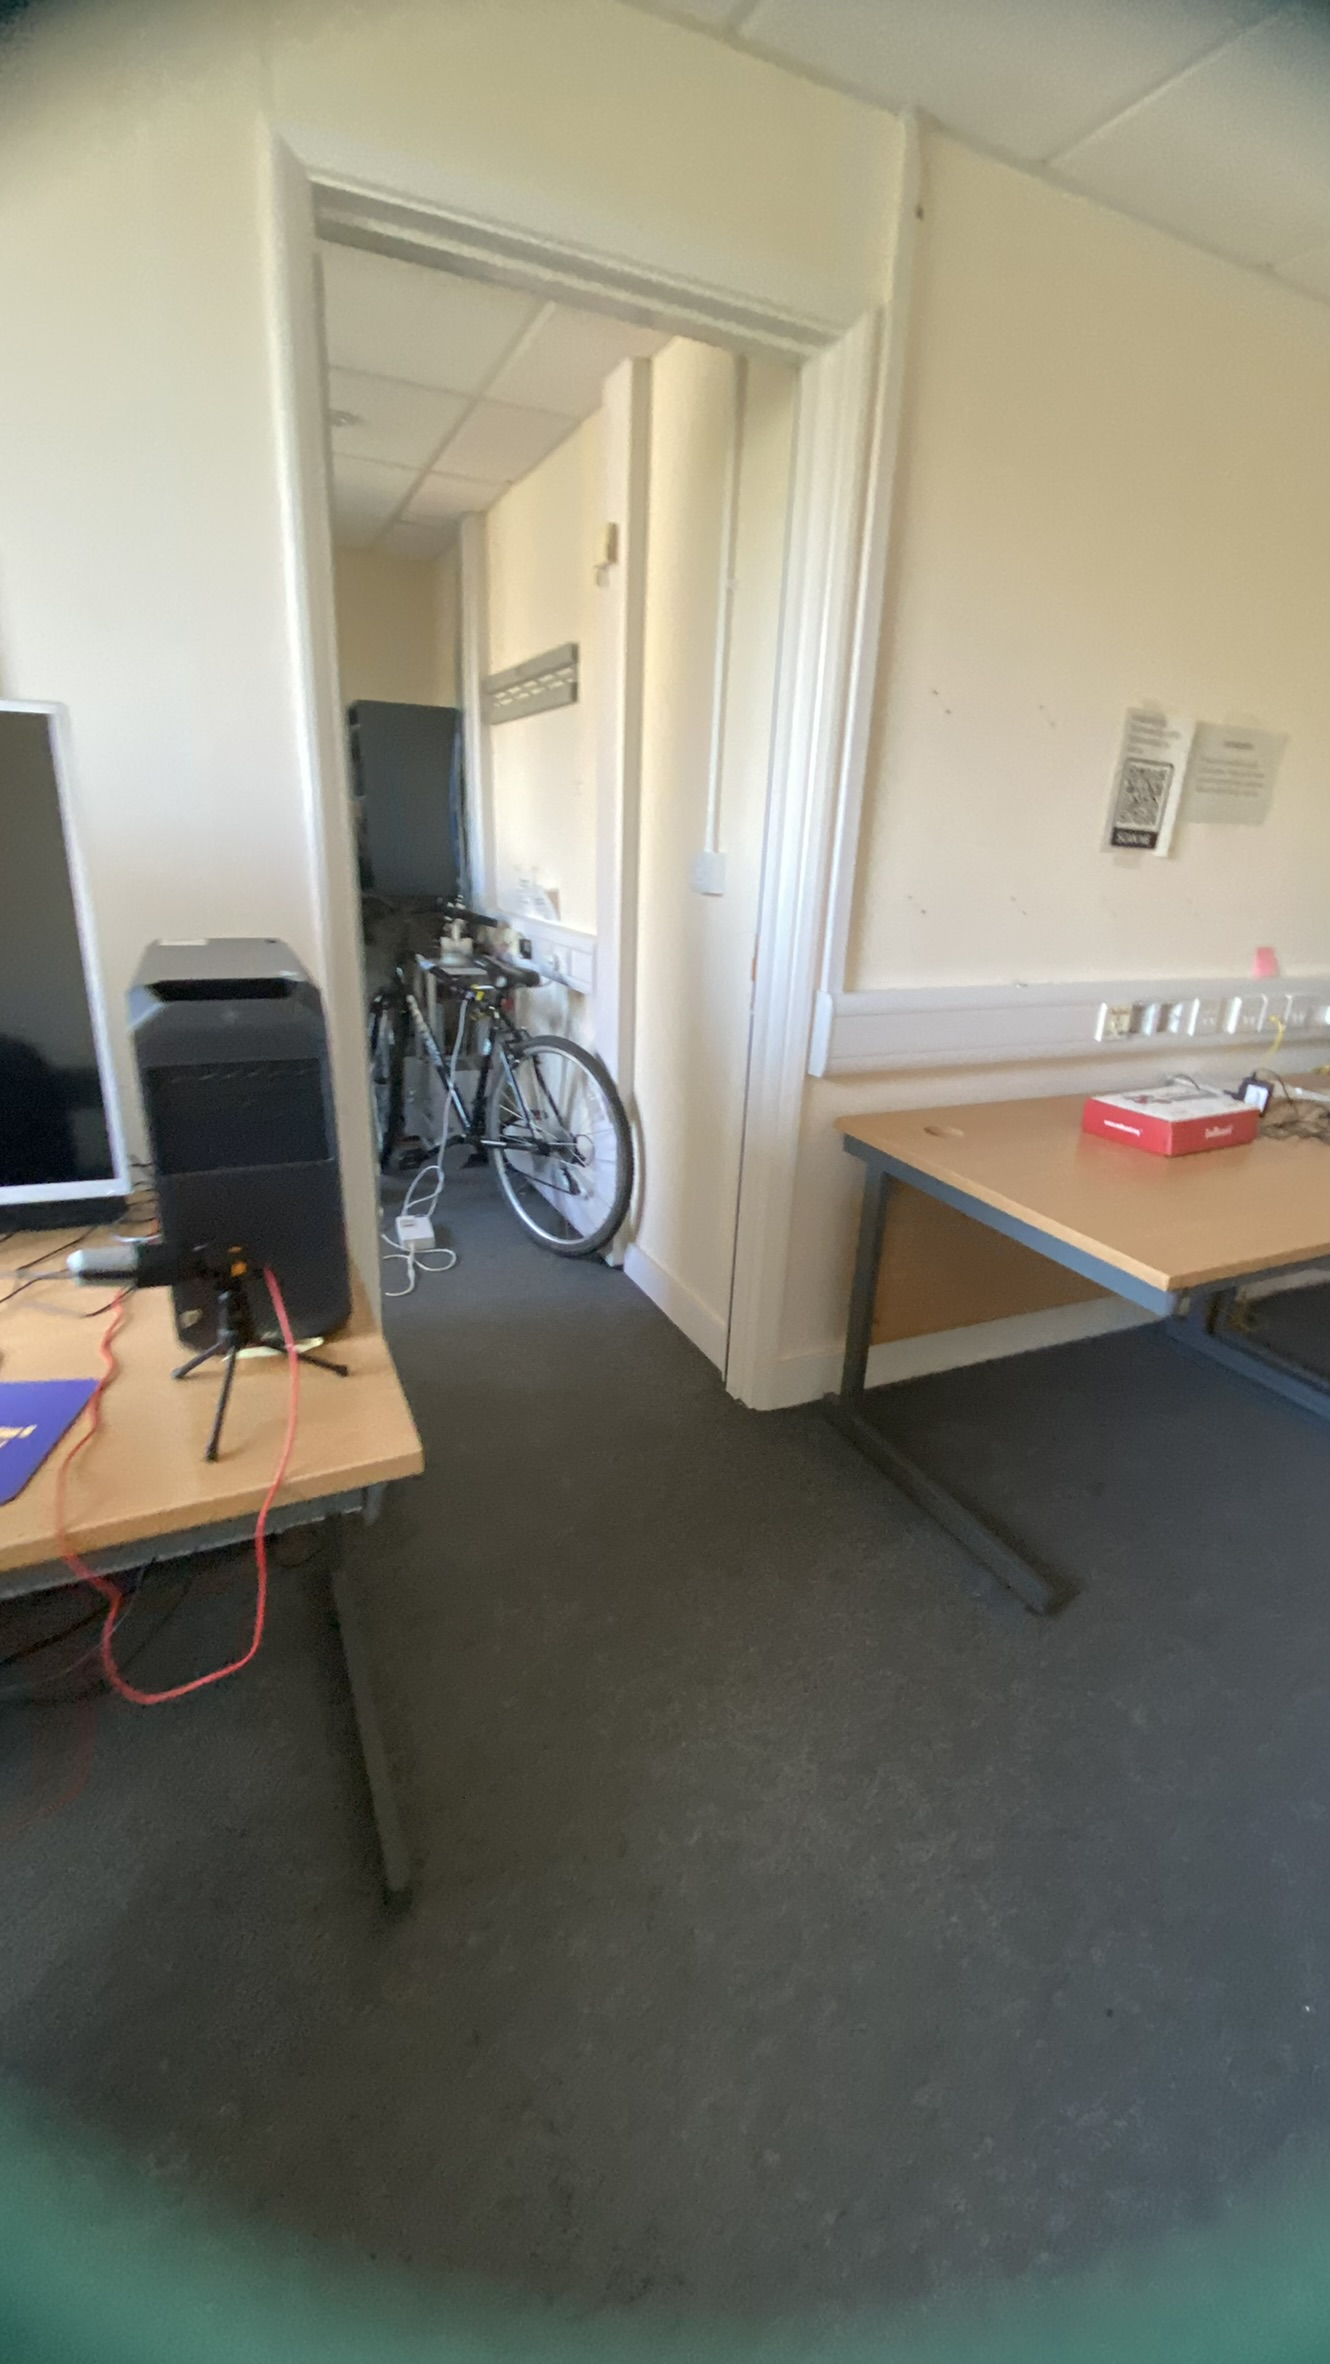table: (797, 1078, 1330, 1680)
